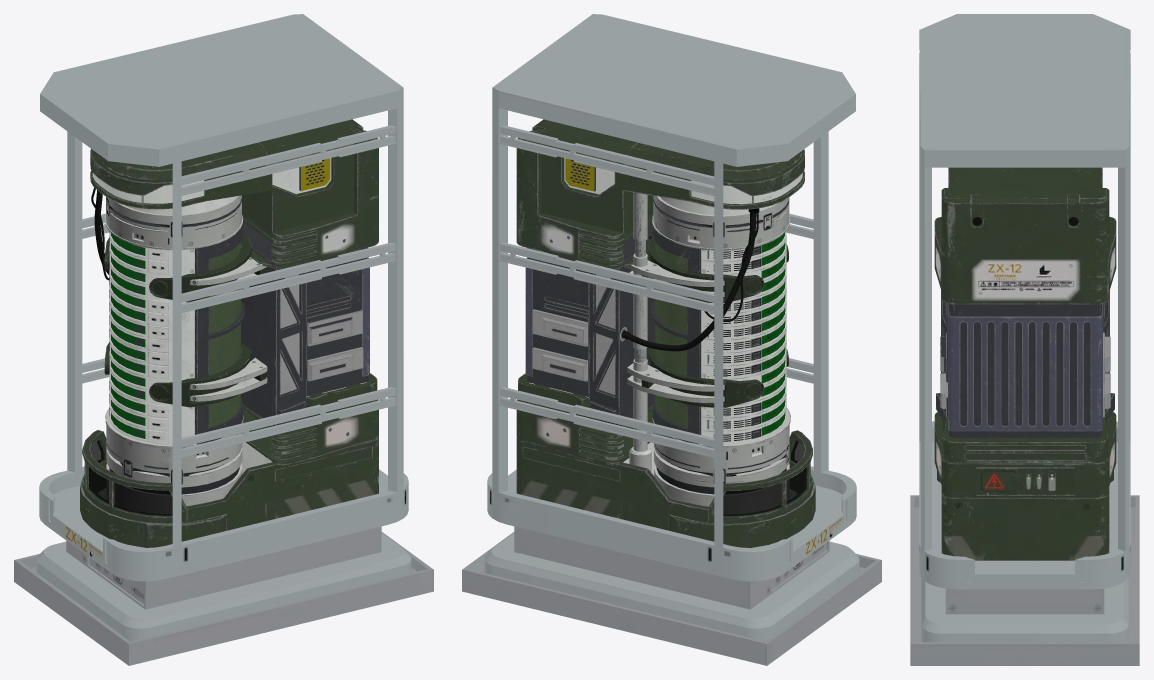
The model's file is server-rack.glb.
The picture shows the model from 3 angles, left to right: view 1: azimuth 30°, elevation 25°; view 2: azimuth 150°, elevation 25°; view 3: azimuth 270°, elevation 25°; orthographic projection.
Visible parts, largest first — view 1: defaultMaterial (×7); view 2: defaultMaterial (×7); view 3: defaultMaterial (×3).
Boxes of the visible parts, x1=… form: defaultMaterial (×7): x1=14, y1=14, x2=433, y2=665; defaultMaterial (×7): x1=462, y1=14, x2=881, y2=665; defaultMaterial (×3): x1=910, y1=14, x2=1139, y2=665.
Size of the model in its own units: 1.27 by 2 by 0.8248.
7 materials, 6 textured.
